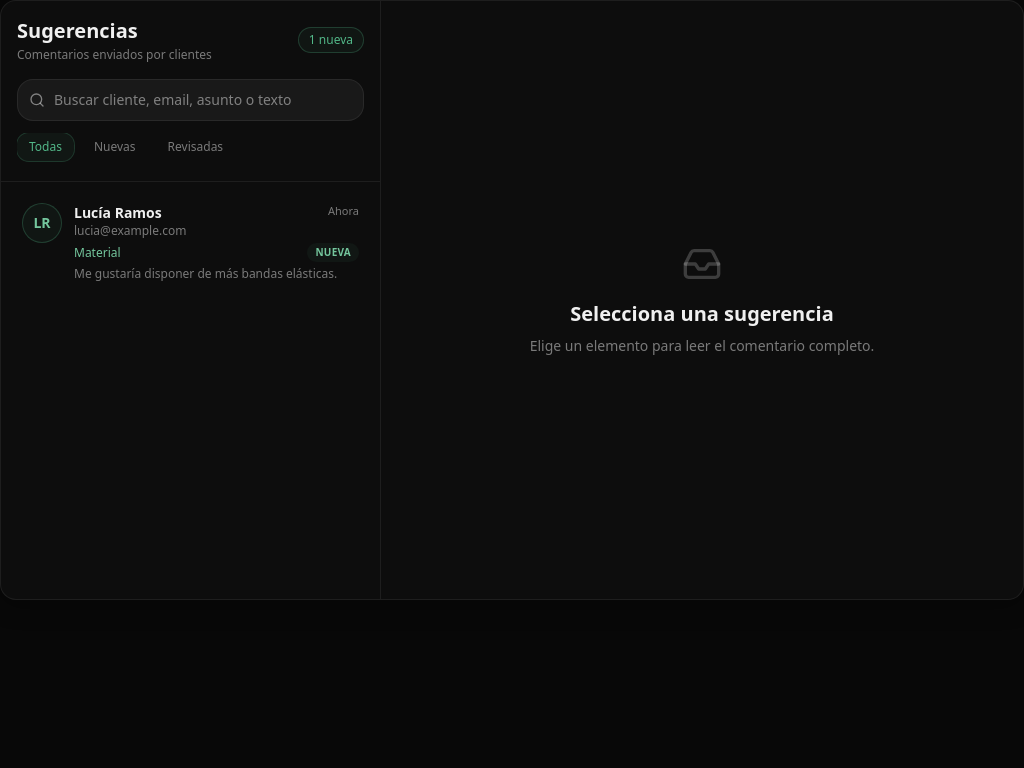
CustomerSuggestionsPanel › shows only active filters and read-only actions for a new suggestion
The image size is (1024, 768).
Expected: the text "1 nueva" is shown, [298, 27, 364, 53]
Expected: the tab "Todas" is shown, [17, 133, 74, 161]
Click the button "Lucía Ramos": {"x": 42, "y": 223} [9, 190, 372, 295]
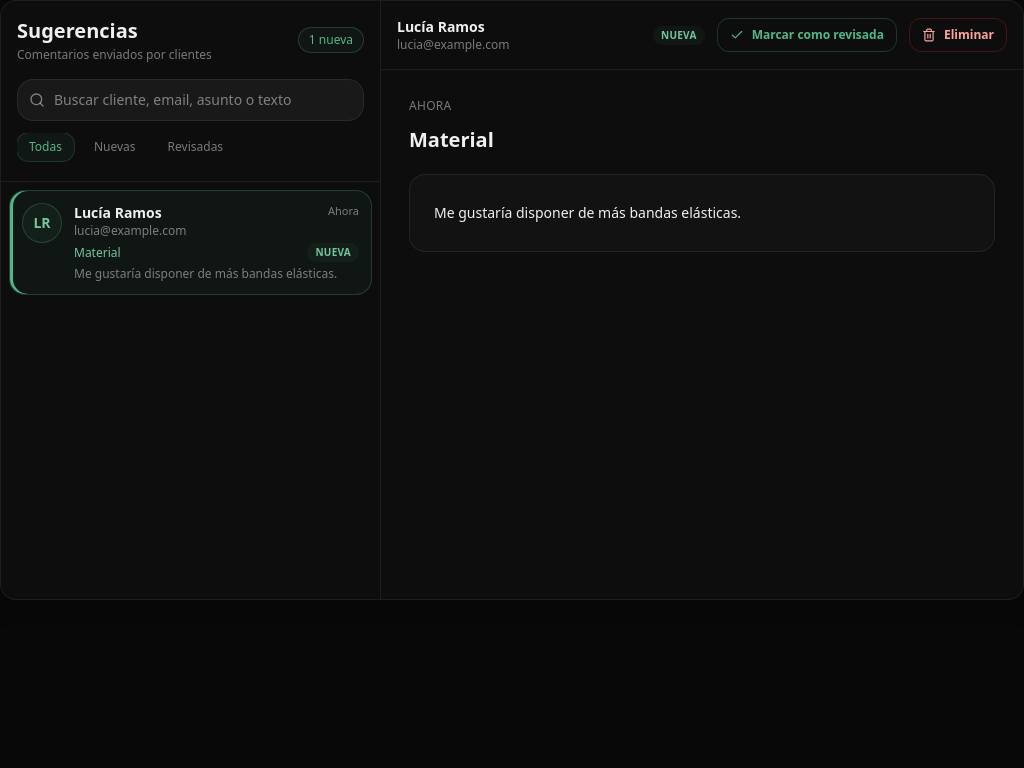
Expected: the button "Marcar como revisada" is shown, [717, 18, 897, 52]
Expected: the button "Eliminar" is shown, [909, 18, 1007, 52]
